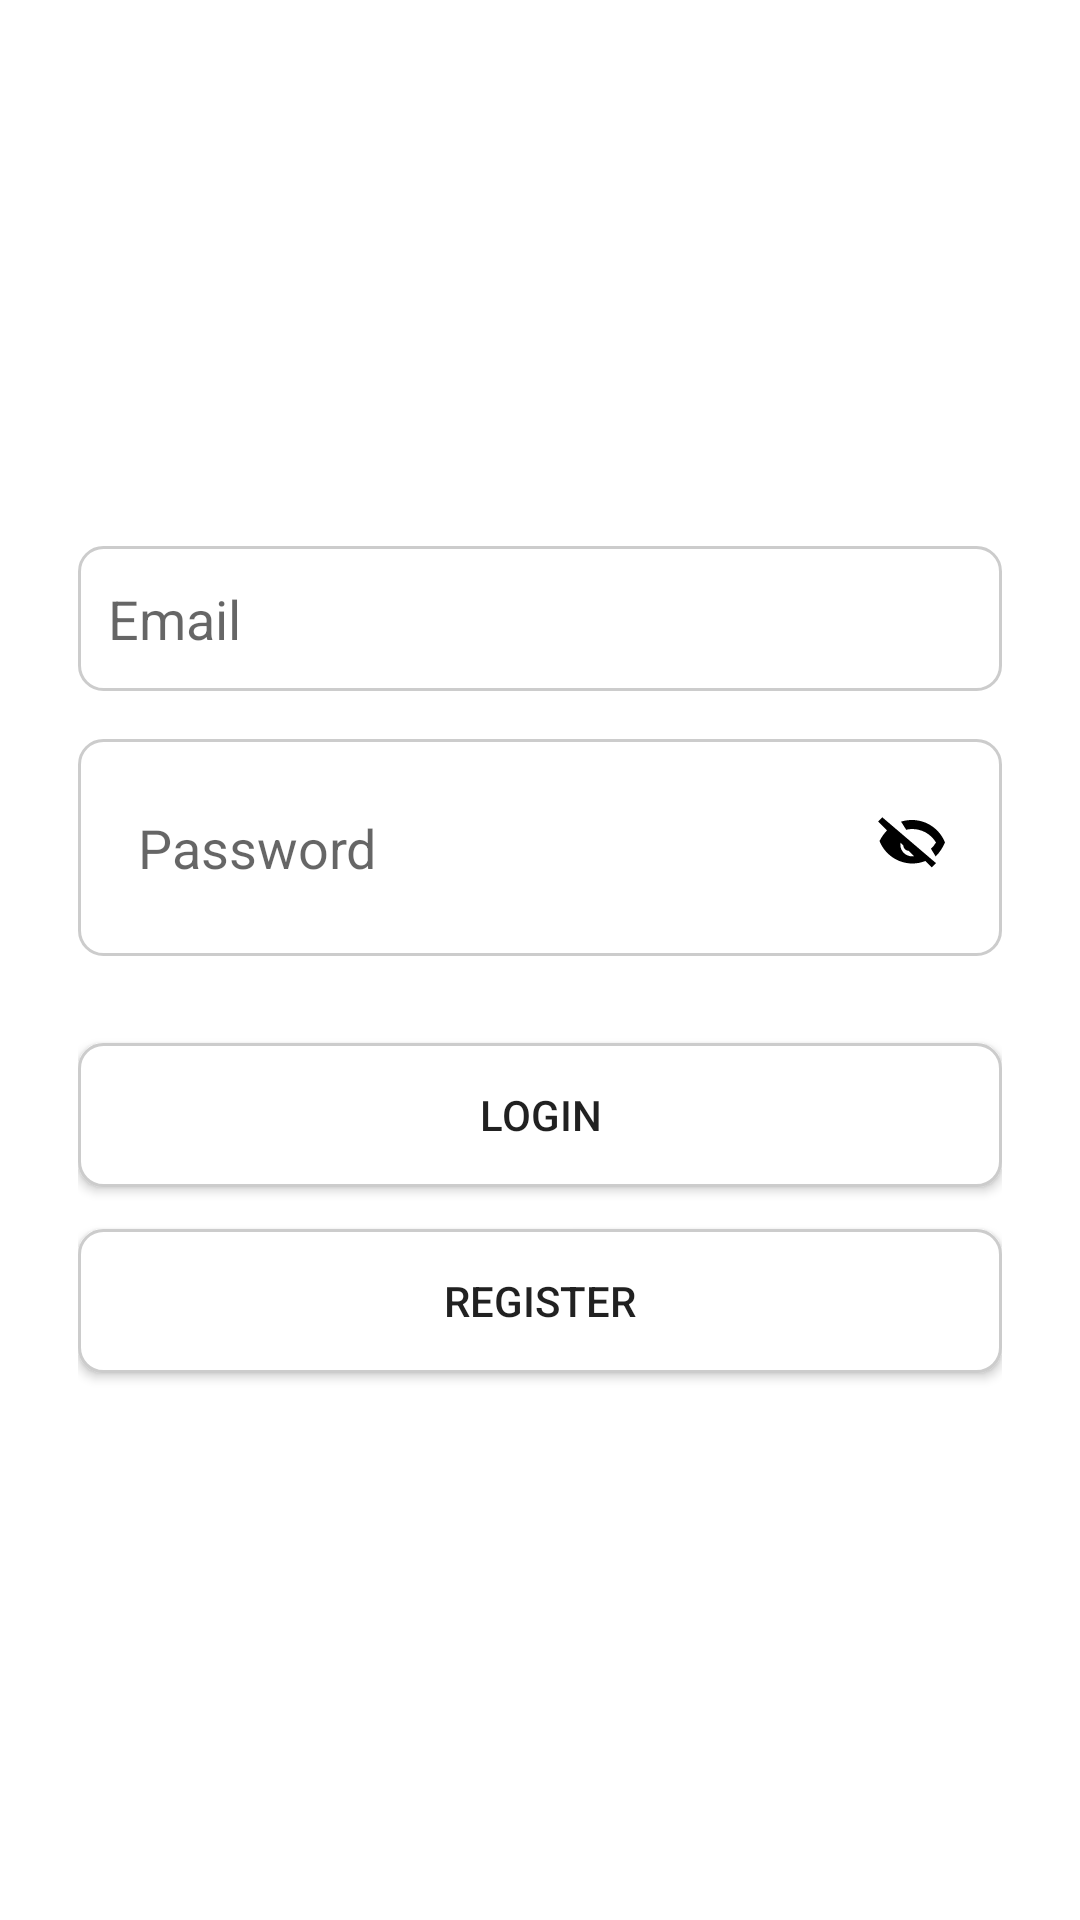

Where to tap for icons on this 1080×1920 app screen, as (x,y):
eye closed: (911,842)
